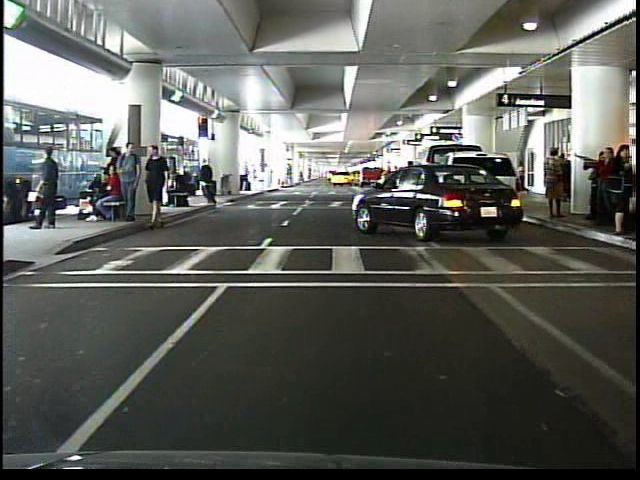person: (36, 141, 69, 236), (542, 146, 567, 223), (198, 156, 224, 208), (167, 164, 195, 209), (519, 158, 534, 196)
